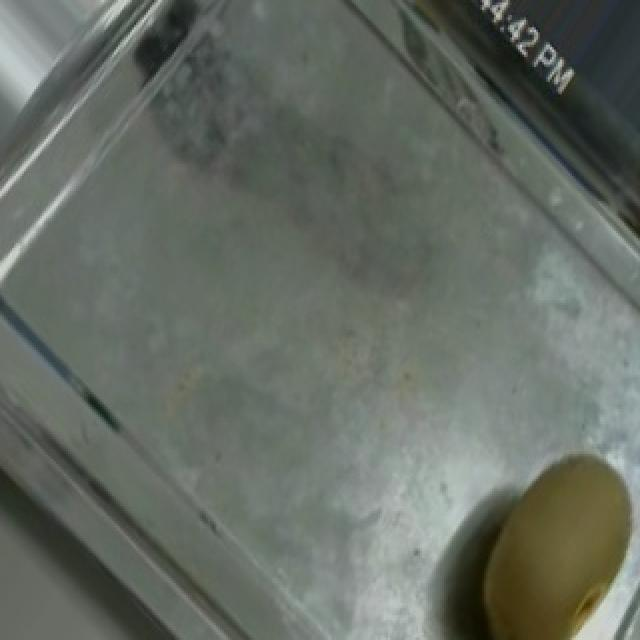Fruit: (440, 429, 640, 640)
